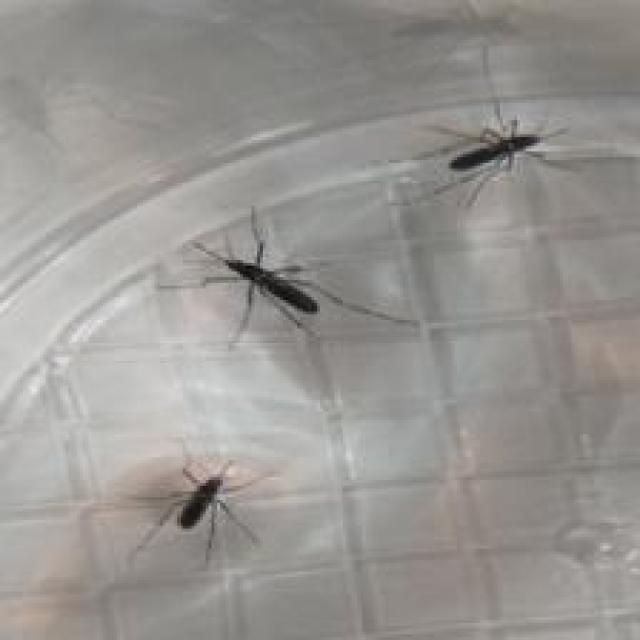Aedes albopictus: (156, 204, 418, 350)
